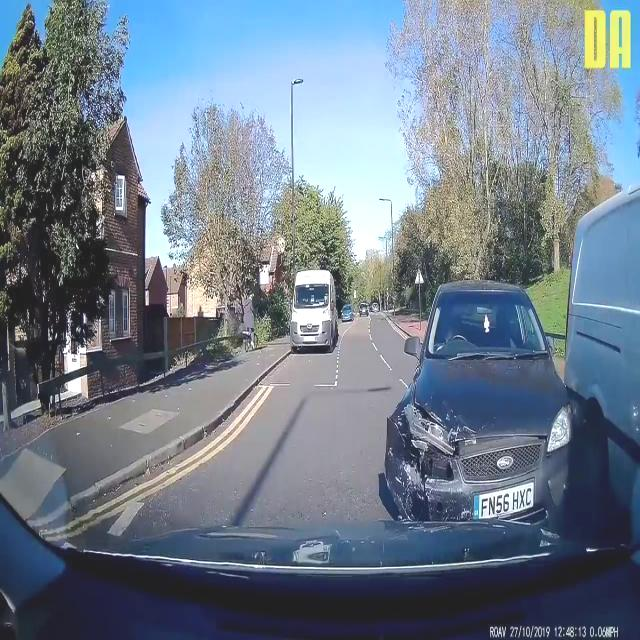accident: (386, 280, 572, 520)
